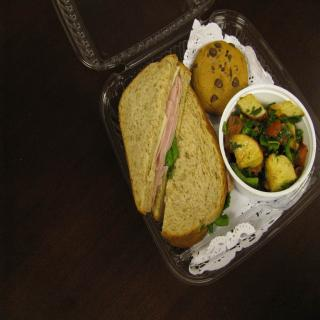Cookie: (192, 36, 247, 117)
Salad: (223, 91, 308, 194)
